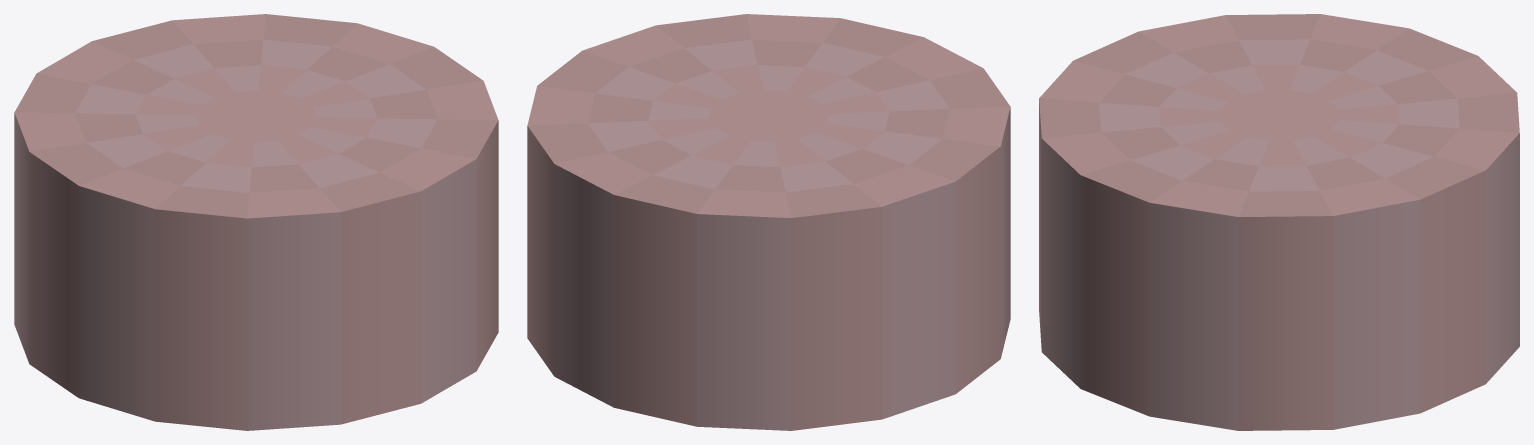
The model's file is Map_SpiralCentre.fbx.
The picture shows the model from 3 angles, left to right: view 1: azimuth 30°, elevation 25°; view 2: azimuth 150°, elevation 25°; view 3: azimuth 270°, elevation 25°; orthographic projection.
Parts seen in each view (by area): view 1: MSH_Spiral_Centre1; view 2: MSH_Spiral_Centre1; view 3: MSH_Spiral_Centre1.
Boxes of the visible parts, x1=… form: MSH_Spiral_Centre1: x1=14, y1=14, x2=498, y2=430; MSH_Spiral_Centre1: x1=527, y1=14, x2=1010, y2=430; MSH_Spiral_Centre1: x1=1039, y1=14, x2=1519, y2=430.
Bounding box in the file's own units: 1222 × 600 × 1222.
